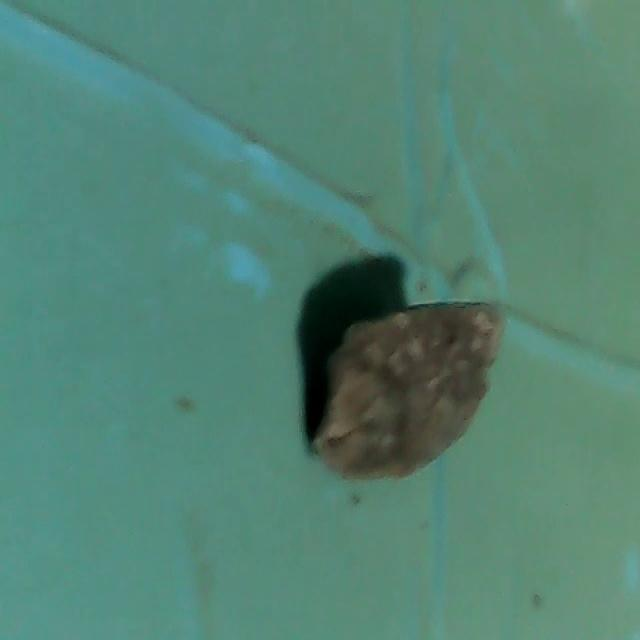rock: (299, 285, 513, 487)
